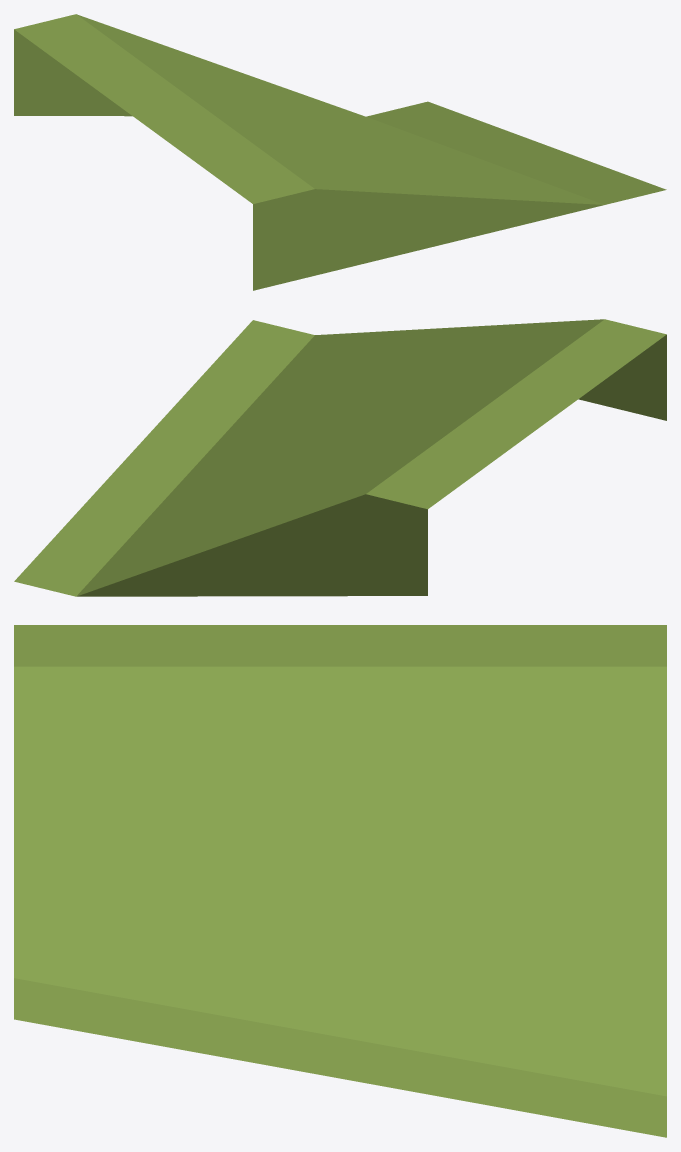
File: grass-tile_07.fbx
The picture shows the model from 3 angles, top to bottom: view 1: azimuth 30°, elevation 25°; view 2: azimuth 150°, elevation 25°; view 3: azimuth 270°, elevation 25°; orthographic projection. The views are drawn at different scales.
Parts seen in each view (by area): view 1: grass-tile_07; view 2: grass-tile_07; view 3: grass-tile_07.
Boxes of the visible parts, box(x1,y1,x2,y2) form: grass-tile_07: box(14, 14, 666, 290); grass-tile_07: box(14, 319, 666, 596); grass-tile_07: box(14, 625, 666, 1137).
Size of the model in its own units: 1000 by 400 by 1000.
